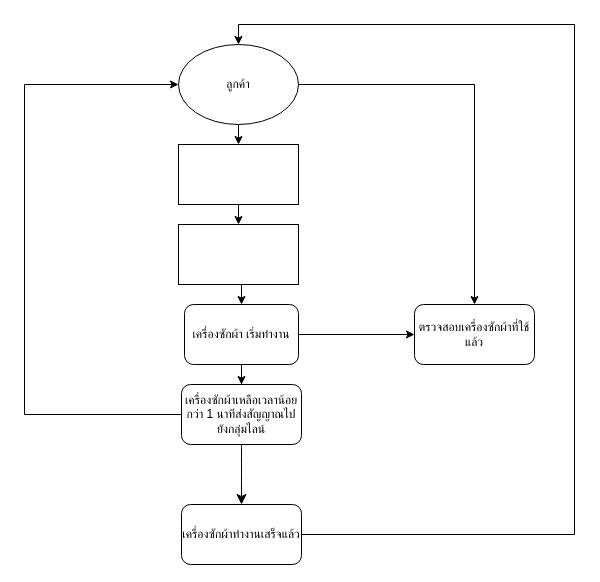
The diagram is 600 pixels wide and 582 high, and some of its shapes have lost their labels. The box of each missing label's shape, as (x1, y1, x2, y2) in pixels:
ลูกค้าหยอดเหรียญเพื่อใช้เครื่องซักผ้า: (178, 224, 298, 284)
เลือกเครื่องซักผ้า: (178, 144, 298, 204)
